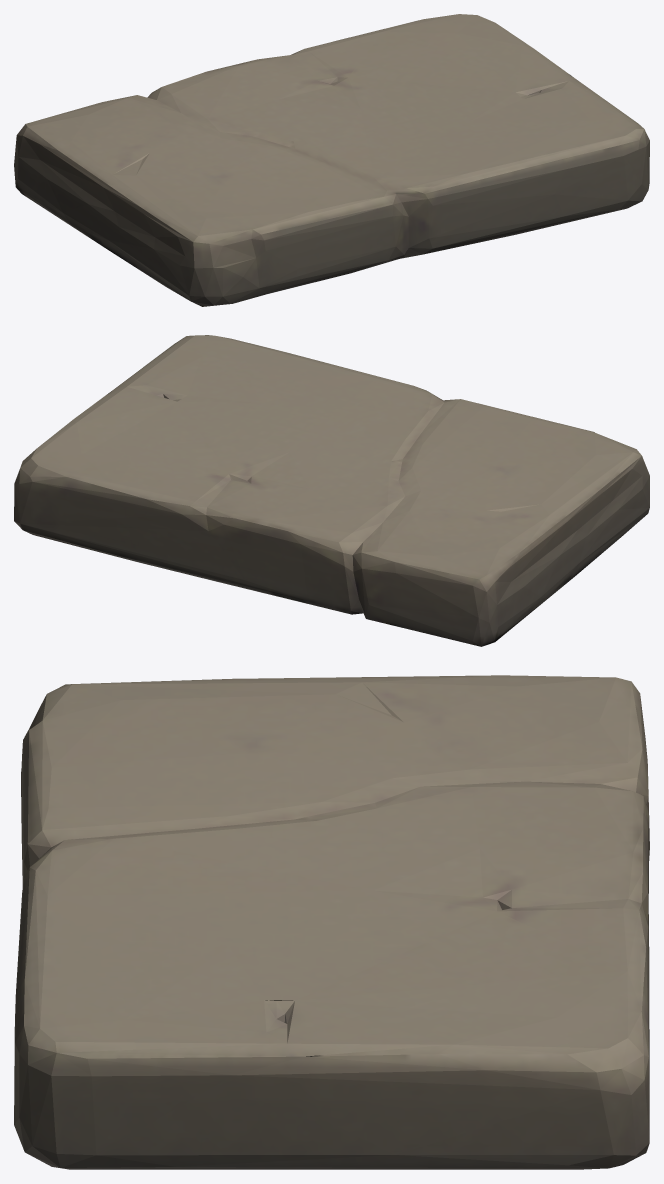
The picture shows the model from 3 angles, top to bottom: view 1: azimuth 30°, elevation 25°; view 2: azimuth 150°, elevation 25°; view 3: azimuth 270°, elevation 25°; orthographic projection. The views are drawn at different scales.
Parts seen in each view (by area): view 1: geometry_0.065_Baked; view 2: geometry_0.065_Baked; view 3: geometry_0.065_Baked.
Part boxes in pixels (x1,y1,x2,y2): geometry_0.065_Baked: [14, 14, 649, 306]; geometry_0.065_Baked: [14, 335, 649, 646]; geometry_0.065_Baked: [14, 675, 649, 1169].
Bounding box in the file's own units: 26.53 × 3.99 × 17.87.
